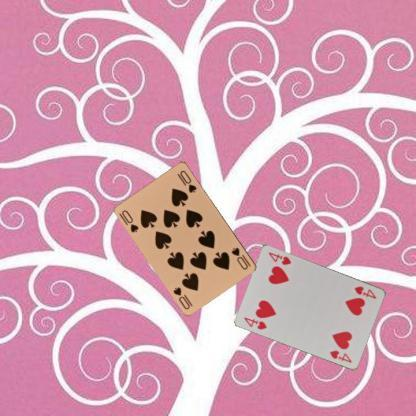10s: (228, 245, 252, 271), (119, 207, 140, 234)
4h: (242, 314, 269, 330), (352, 284, 378, 300)
